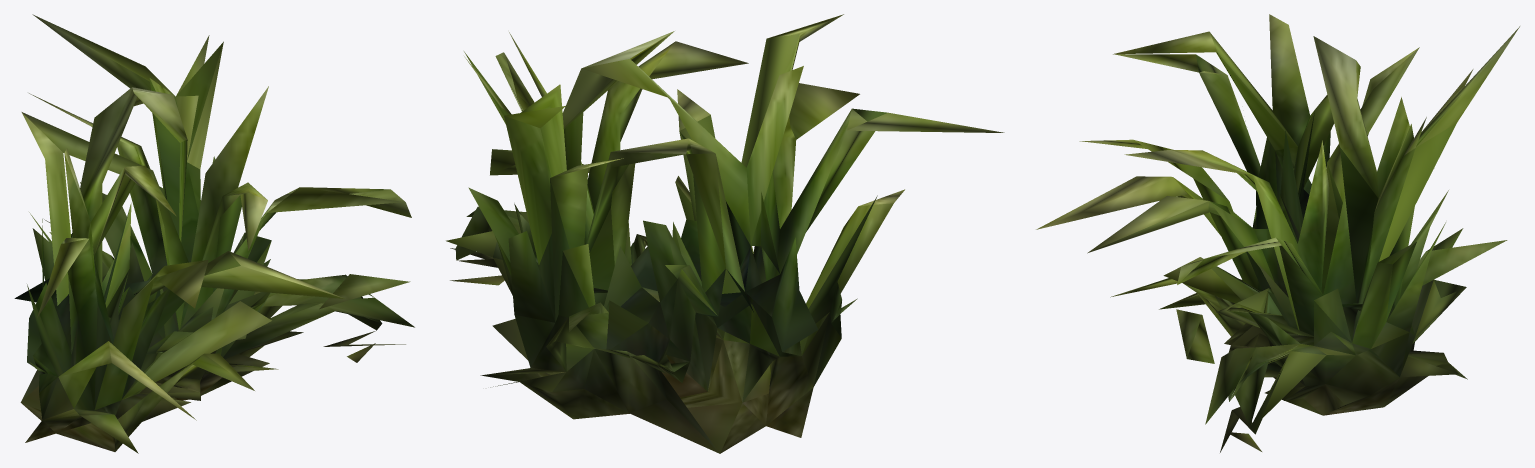
Rendered from grass_tuft_3.glb.
The picture shows the model from 3 angles, left to right: view 1: azimuth 30°, elevation 25°; view 2: azimuth 150°, elevation 25°; view 3: azimuth 270°, elevation 25°; orthographic projection. The views are drawn at different scales.
Parts seen in each view (by area): view 1: tripo_node_7ac3d90a-8751-476c-9687-198a5a3f9aa1.001; view 2: tripo_node_7ac3d90a-8751-476c-9687-198a5a3f9aa1.001; view 3: tripo_node_7ac3d90a-8751-476c-9687-198a5a3f9aa1.001.
Part boxes in pixels (box(x1,y1,x2,y2)): tripo_node_7ac3d90a-8751-476c-9687-198a5a3f9aa1.001: box(14, 14, 414, 453); tripo_node_7ac3d90a-8751-476c-9687-198a5a3f9aa1.001: box(446, 14, 1004, 453); tripo_node_7ac3d90a-8751-476c-9687-198a5a3f9aa1.001: box(1036, 14, 1519, 452).
Bounding box in the file's own units: 0.416 × 0.308 × 0.3835.
Materials: 1 (1 with a texture image).
